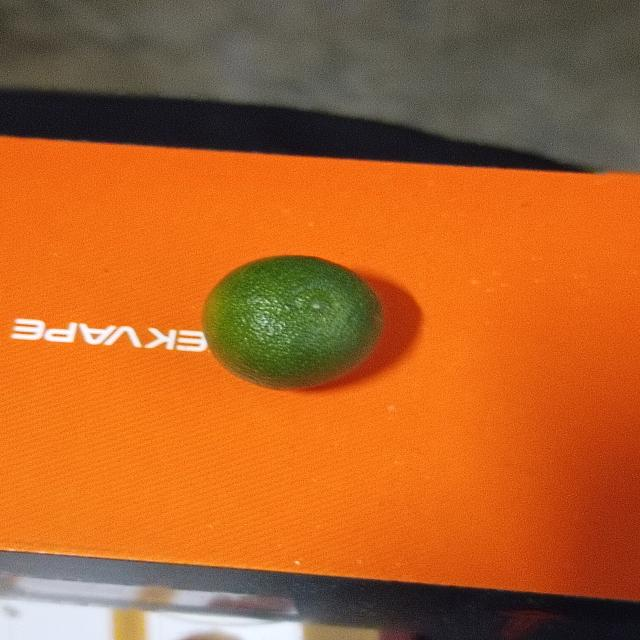heathy: (198, 252, 392, 398)
